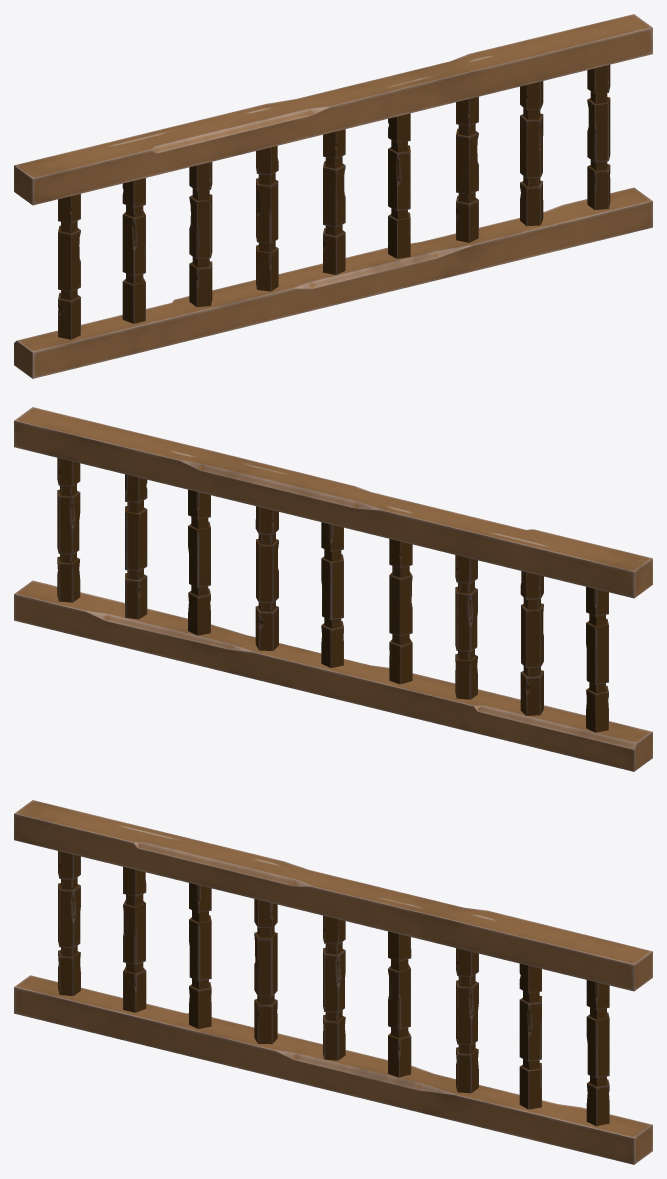
File: Railing.fbx
3 renders of one model, top to bottom at view 1: azimuth 30°, elevation 25°; view 2: azimuth 150°, elevation 25°; view 3: azimuth 330°, elevation 25°, orthographic.
Parts seen in each view (by area): view 1: railing; view 2: railing; view 3: railing.
Boxes of the visible parts, bbox=[...] form: railing: bbox=[14, 14, 652, 378]; railing: bbox=[14, 407, 652, 771]; railing: bbox=[14, 800, 652, 1164].
Bounding box in the file's own units: 96.23 × 29.69 × 5.04.
